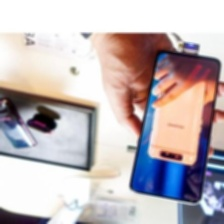phone: (125, 46, 224, 210), (143, 52, 208, 167), (0, 97, 37, 151)
